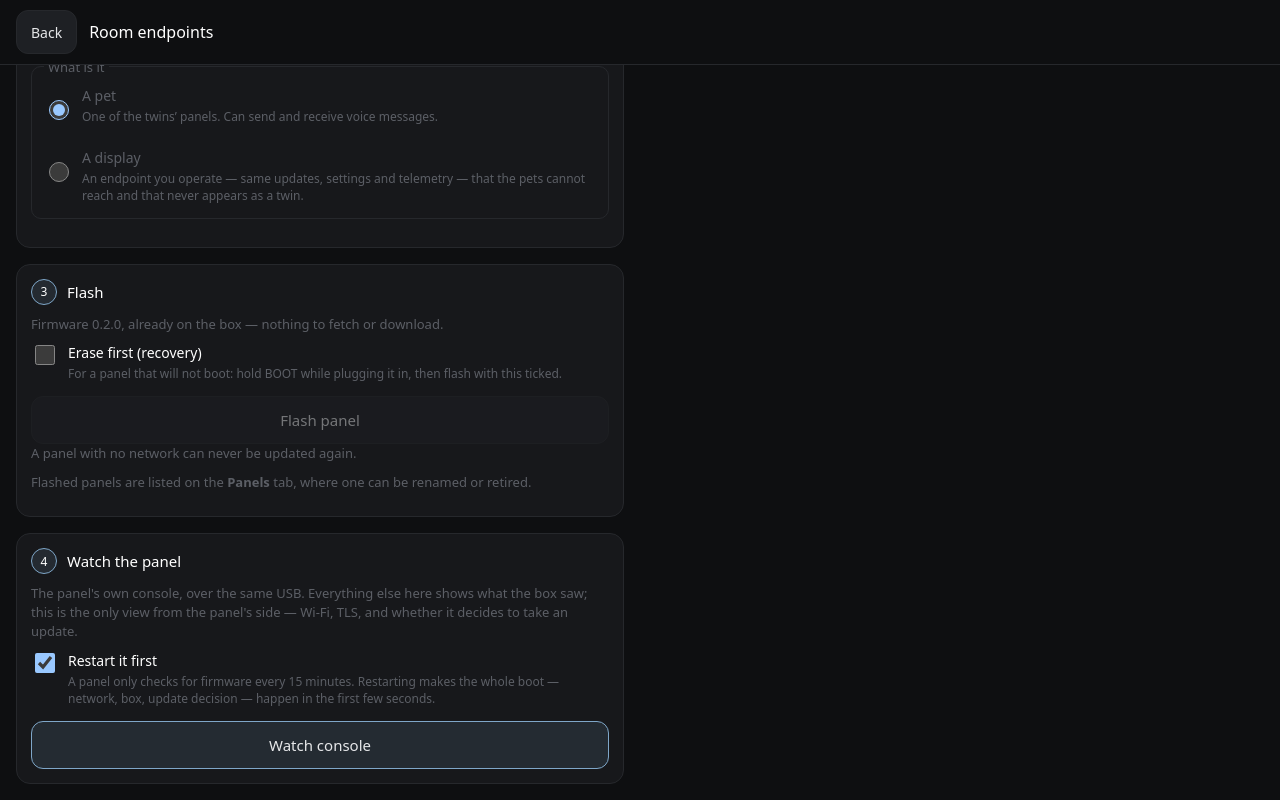
Test: EndpointsScreen › streams the panel's own console lines into the log
(page scrolled)
Click the button "Watch console": (320, 745) x1=31 y1=721 x2=609 y2=769
(page scrolled)
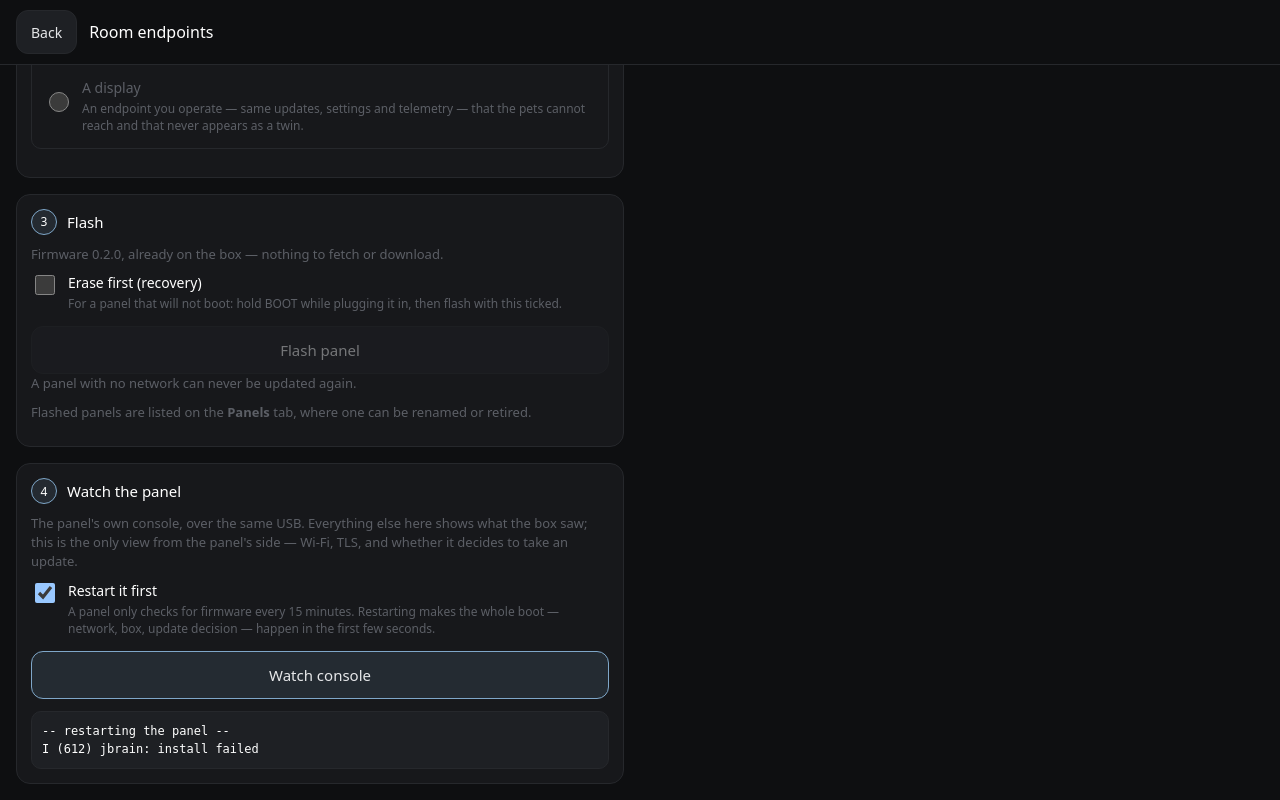
Expected: the text "-- restarting the panel -- I (612) jbrain: install failed" is shown, x1=31 y1=711 x2=609 y2=769
